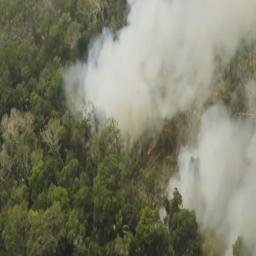Heavy smoke: (58, 1, 256, 134), (163, 110, 256, 256)
Small fire: (144, 143, 157, 159)
